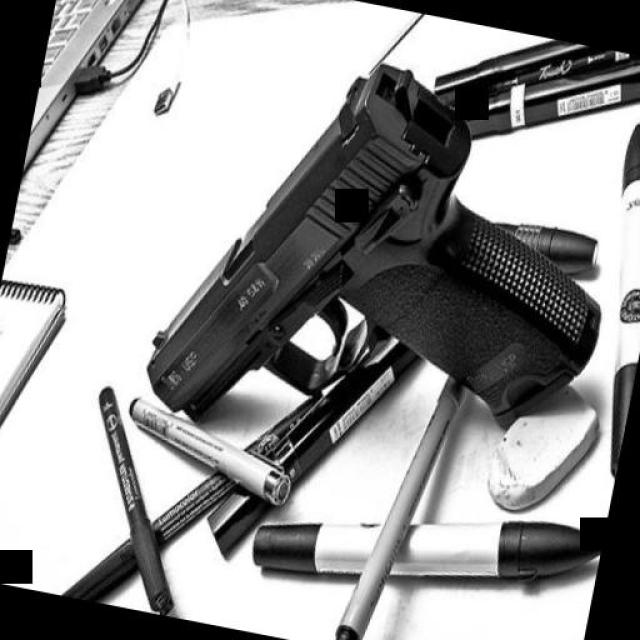gun: (131, 23, 640, 495)
